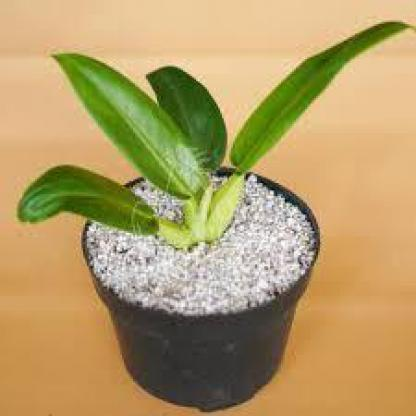Kenanga: (85, 20, 381, 354)
